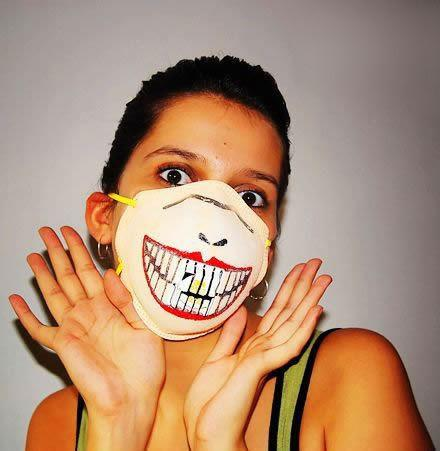OK: (102, 146, 282, 326)
